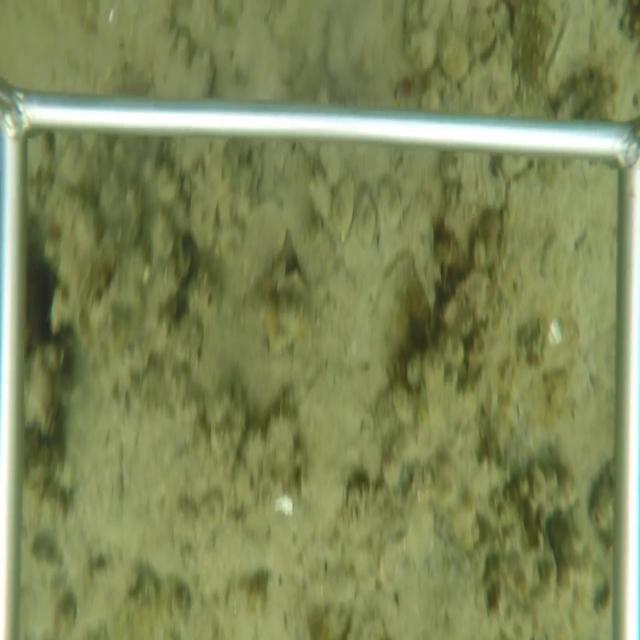Oyster-Indeterminate: (150, 19, 218, 98)
